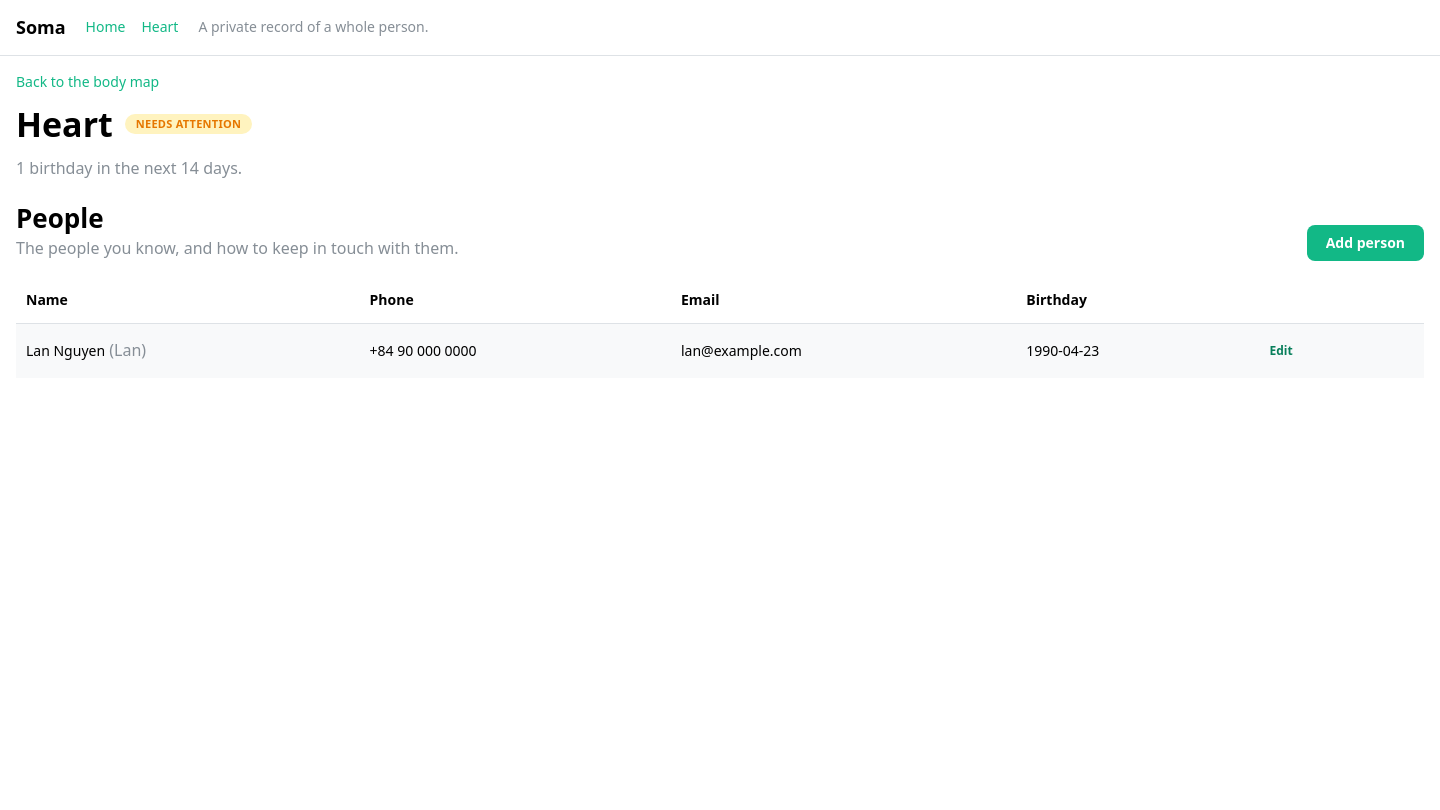
Scenario: People page › explains when someone else changed the contact first
Expected: the text "Lan Nguyen" is shown, [26, 342, 105, 360]
Click the button with aria-label "Edit Lan Nguyen": [1281, 351] box [1254, 336, 1308, 366]
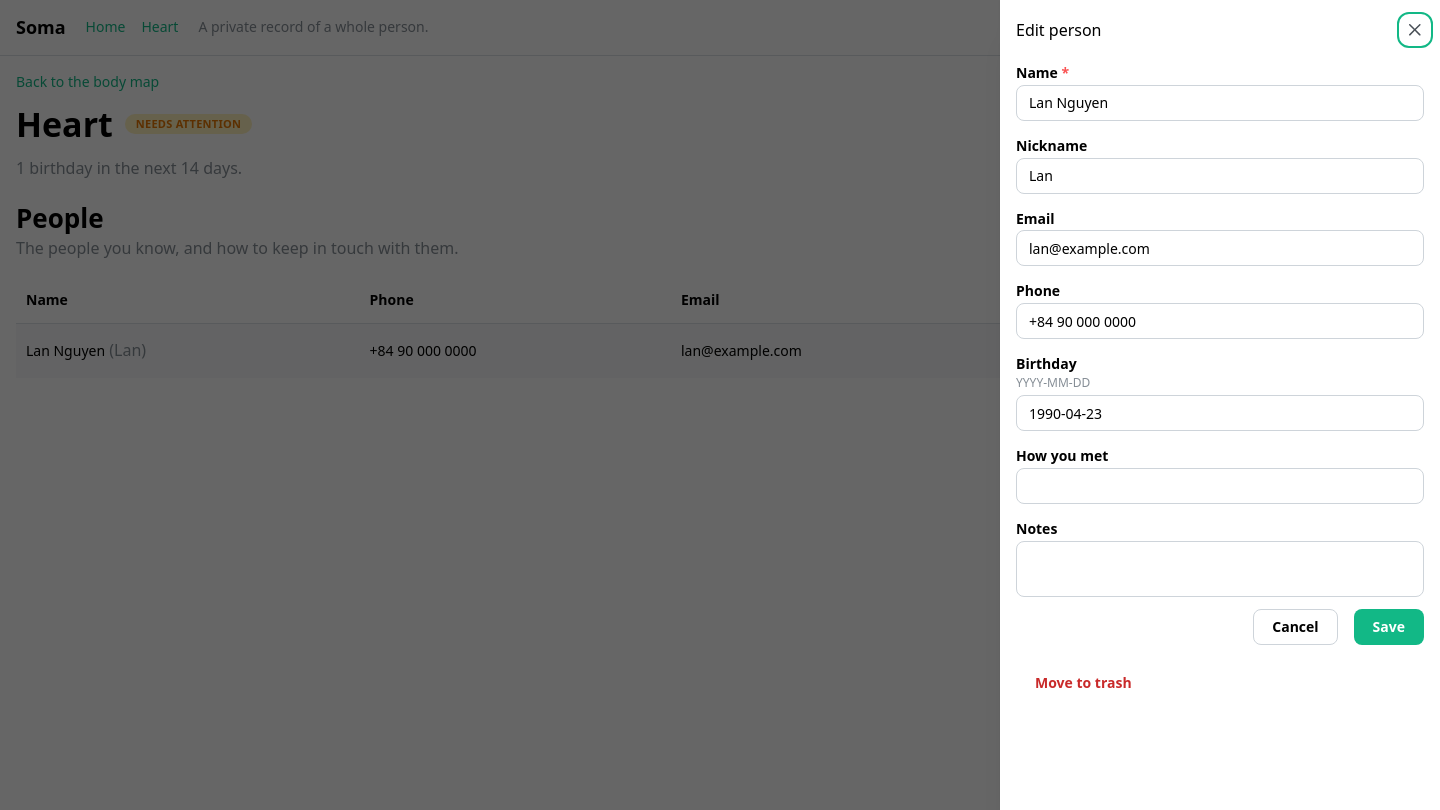
In the field labelled "Nickname": [1220, 176] box [1016, 158, 1424, 194], type "L"
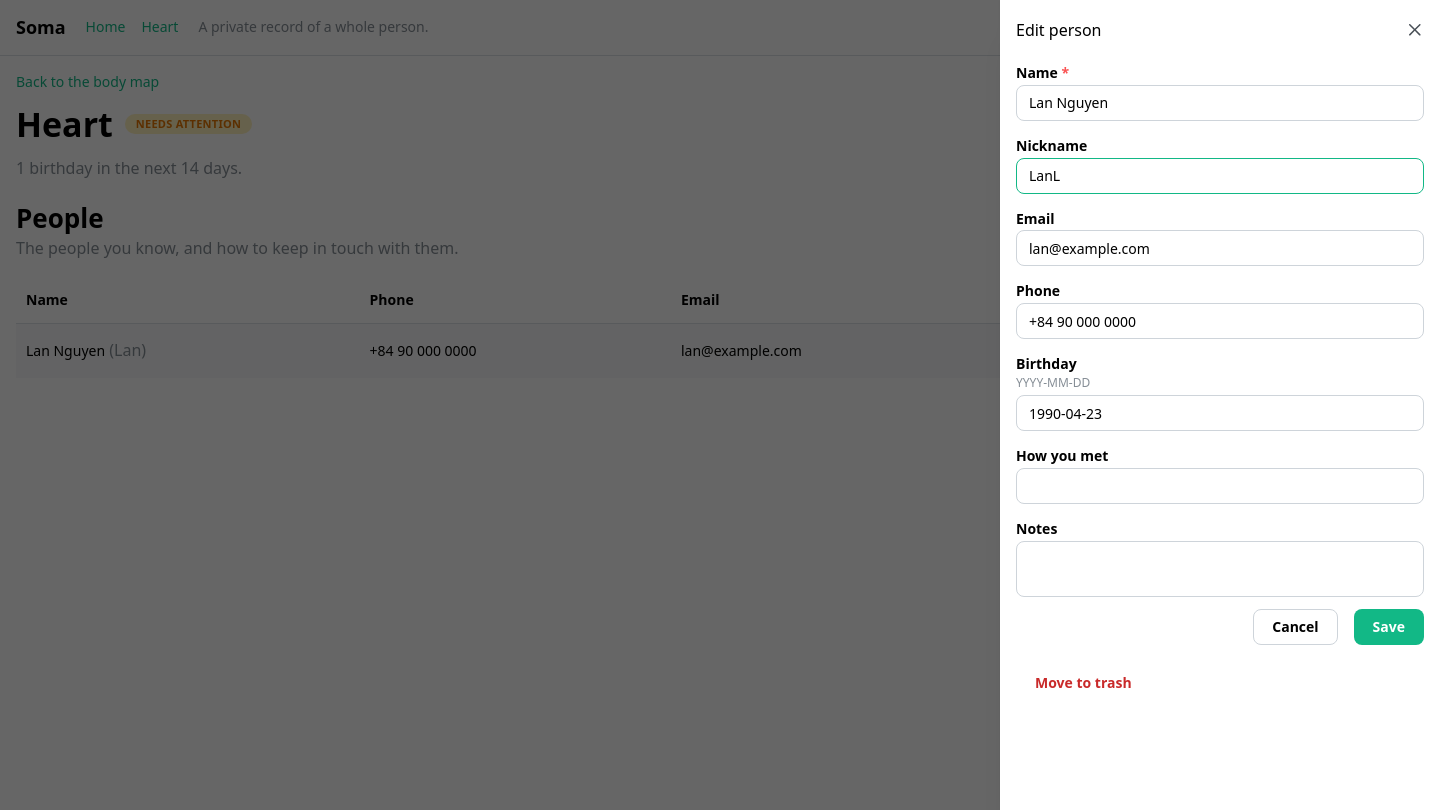
Click the button "Save": [1389, 627] box [1354, 609, 1424, 645]
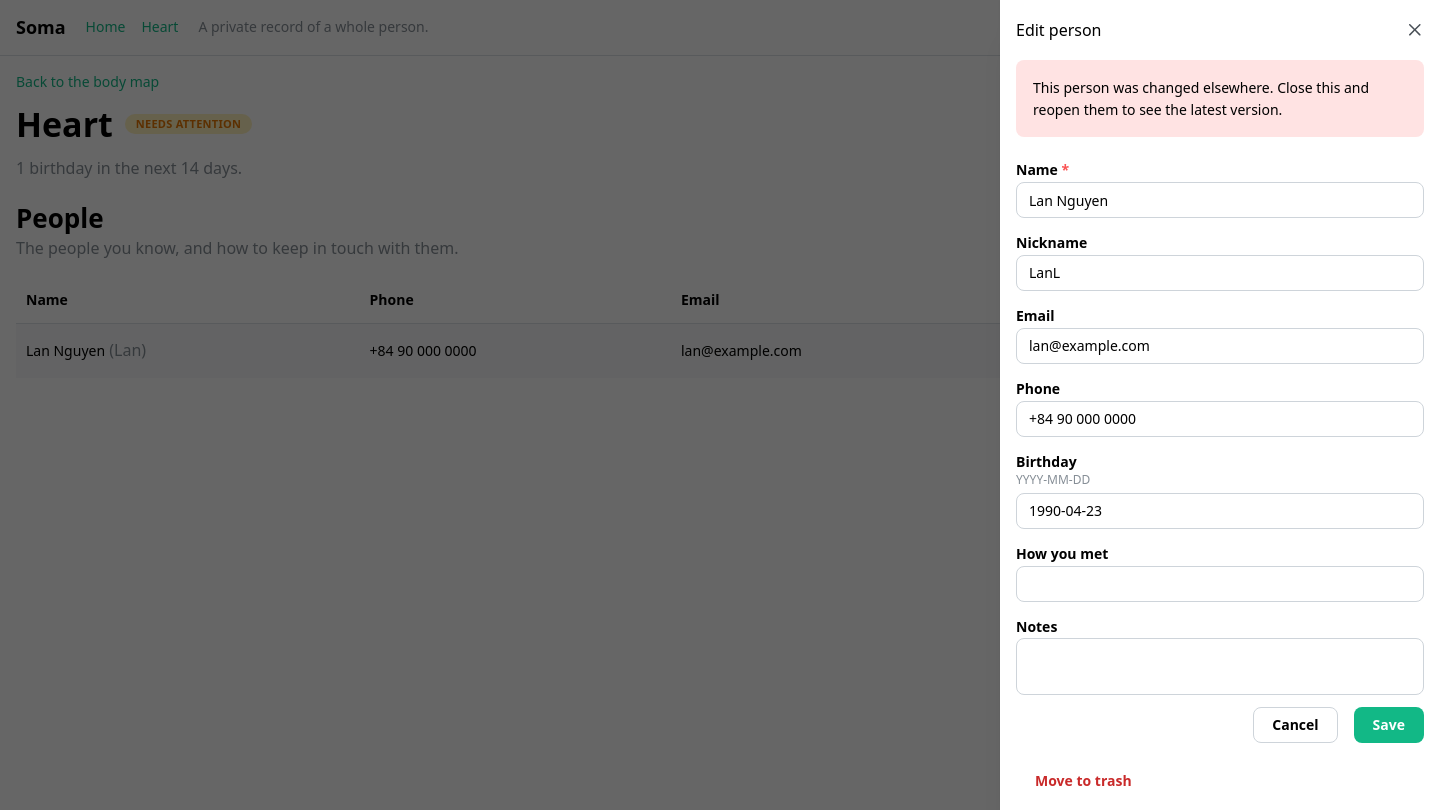
Expected: the message shows "This person was changed elsewhere", [1033, 78, 1369, 119]
